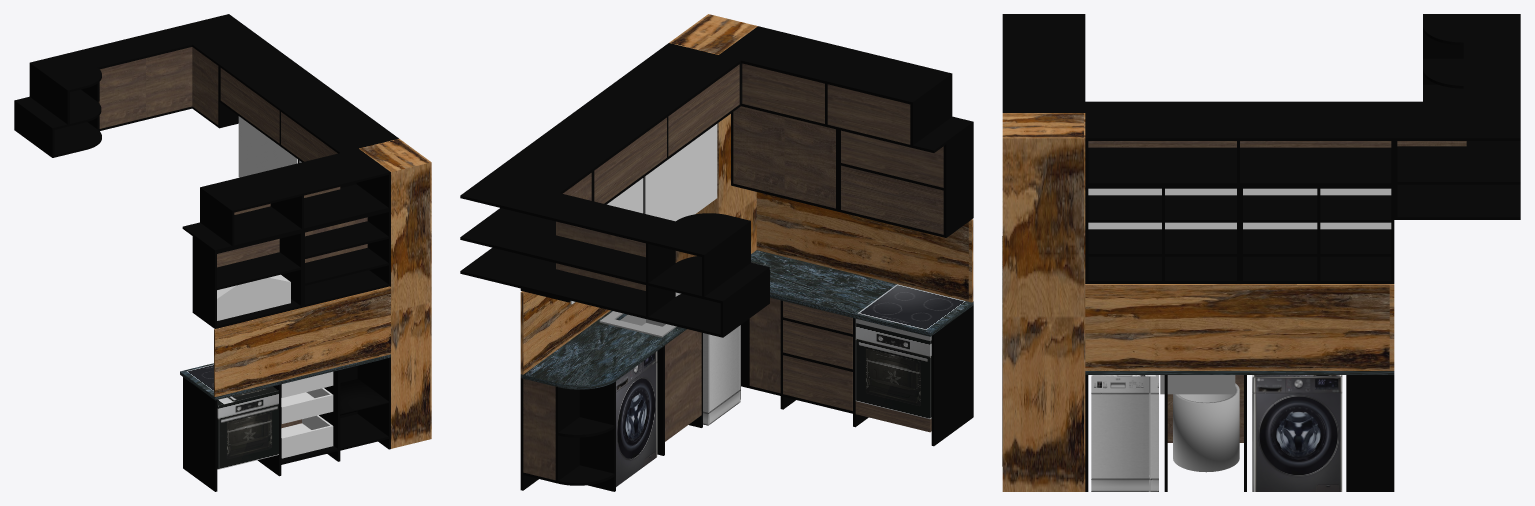
File: kitchen.glb
3 renders of one model, left to right at view 1: azimuth 30°, elevation 25°; view 2: azimuth 150°, elevation 25°; view 3: azimuth 270°, elevation 25°, orthographic. The views are drawn at different scales.
Parts seen in each view (by area): view 1: ventilation-box, worktop-back_right, module-middle-top_top, oven, moduleL_top_left, oven-module_wall_right, moduleR-top_top_left, moduleL_top_right, moduleL_door_mid, moduleL_door_left, moduleR-top_bot_right, moduleR-top_bot_left (+36 smaller); view 2: worktop-back_right, module-middle-top_top, oven, worktop_right, worktop_left, moduleL_top_left, oven-module_wall_right, moduleL_bot_left, moduleL_shelf_left, ventilation-box, module-right-center_2_door_bot, moduleL_top_right (+44 smaller); view 3: ventilation-box, worktop-back_left, module-middle-top_top, module-middle-top_bot, Washing Machine.003, dishwasher, electrics-module_wall_left, bin, moduleL_top_left, moduleL_top_right, moduleL_shelf_right, moduleR-top_top_left (+21 smaller).
Boxes of the visible parts, <box> form: ventilation-box: <box>359,138,431,448</box>; worktop-back_right: <box>214,286,390,396</box>; module-middle-top_top: <box>219,50,398,153</box>; oven: <box>217,386,278,469</box>; moduleL_top_left: <box>32,28,192,78</box>; oven-module_wall_right: <box>183,377,217,491</box>; moduleR-top_top_left: <box>272,149,388,195</box>; moduleL_top_right: <box>170,14,276,65</box>; moduleL_door_mid: <box>146,47,192,117</box>; moduleL_door_left: <box>98,58,145,128</box>; moduleR-top_bot_right: <box>182,206,301,252</box>; moduleR-top_bot_left: <box>304,184,388,230</box>; worktop-back_right: <box>756,192,973,302</box>; module-middle-top_top: <box>521,43,740,171</box>; oven: <box>855,323,931,419</box>; worktop_right: <box>751,250,973,336</box>; worktop_left: <box>520,310,686,389</box>; moduleL_top_left: <box>532,193,728,256</box>; oven-module_wall_right: <box>931,305,973,446</box>; moduleL_bot_left: <box>532,270,750,337</box>; moduleL_shelf_left: <box>530,235,748,303</box>; ventilation-box: <box>669,14,757,262</box>; module-right-center_2_door_bot: <box>841,165,943,234</box>; moduleL_top_right: <box>460,152,591,215</box>; ventilation-box: <box>1002,113,1085,491</box>; worktop-back_left: <box>1085,284,1394,370</box>; module-middle-top_top: <box>1085,101,1394,140</box>; module-middle-top_bot: <box>1085,147,1394,185</box>; Washing Machine.003: <box>1252,375,1342,491</box>; dishwasher: <box>1091,375,1158,491</box>; electrics-module_wall_left: <box>1349,375,1394,491</box>; bin: <box>1173,383,1239,472</box>; moduleL_top_left: <box>1463,15,1520,101</box>; moduleL_top_right: <box>1397,101,1520,140</box>; moduleL_shelf_right: <box>1397,146,1520,184</box>; moduleR-top_top_left: <box>1002,58,1085,111</box>.
Bounding box in the file's own units: 2.13 × 2.6 × 3.45.
Materials: 11 (8 with a texture image).
